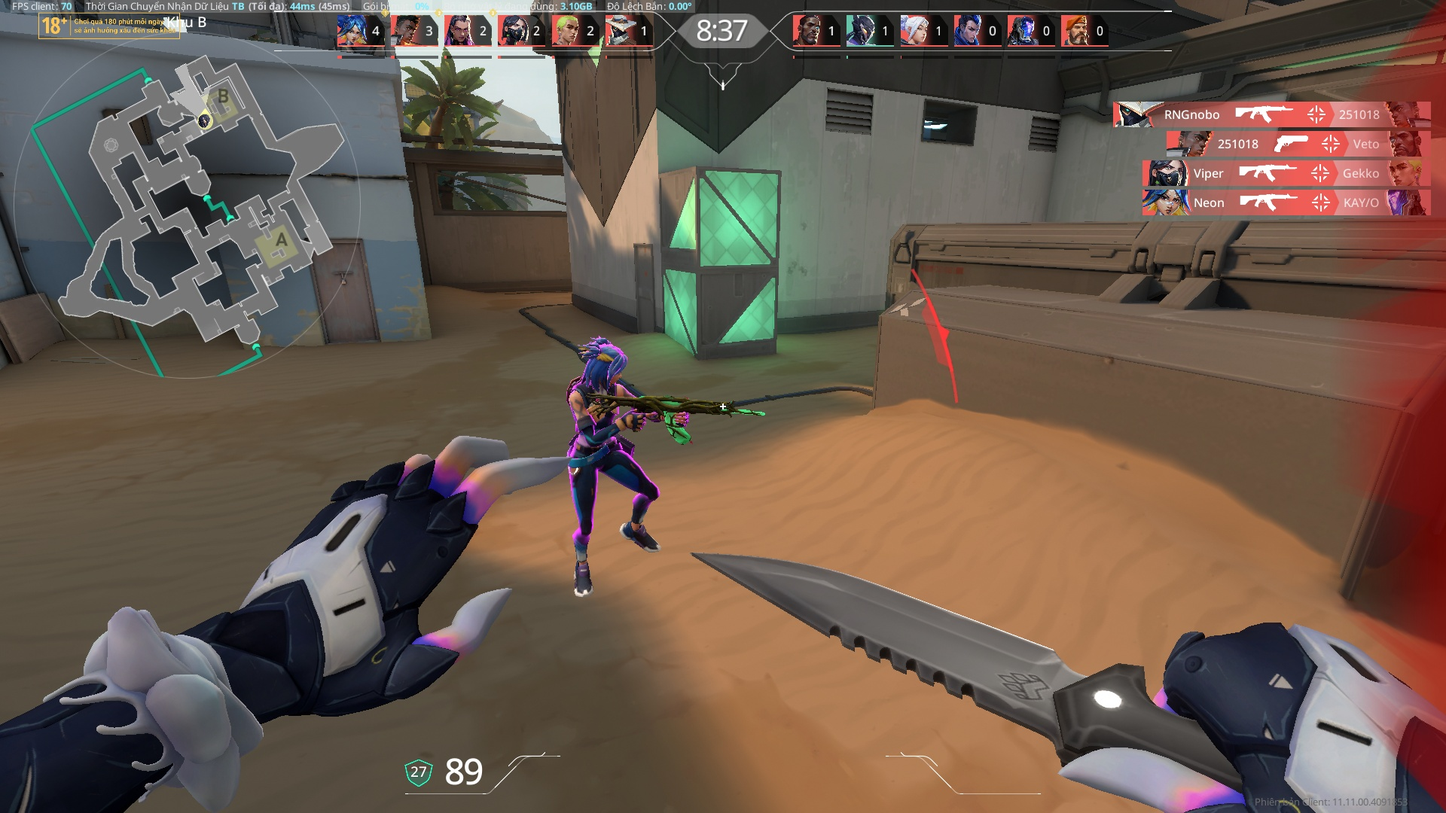body: (575, 384, 627, 455)
head: (587, 338, 629, 385)
